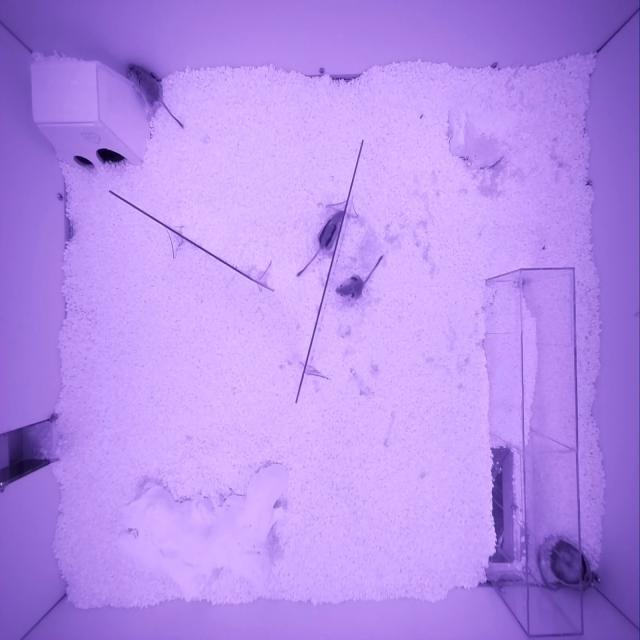adult_front: (539, 534, 593, 592)
pup_fluffy: (126, 64, 164, 114)
pup_spotted: (335, 273, 364, 301)
pup_v_stripe: (318, 210, 345, 252)
